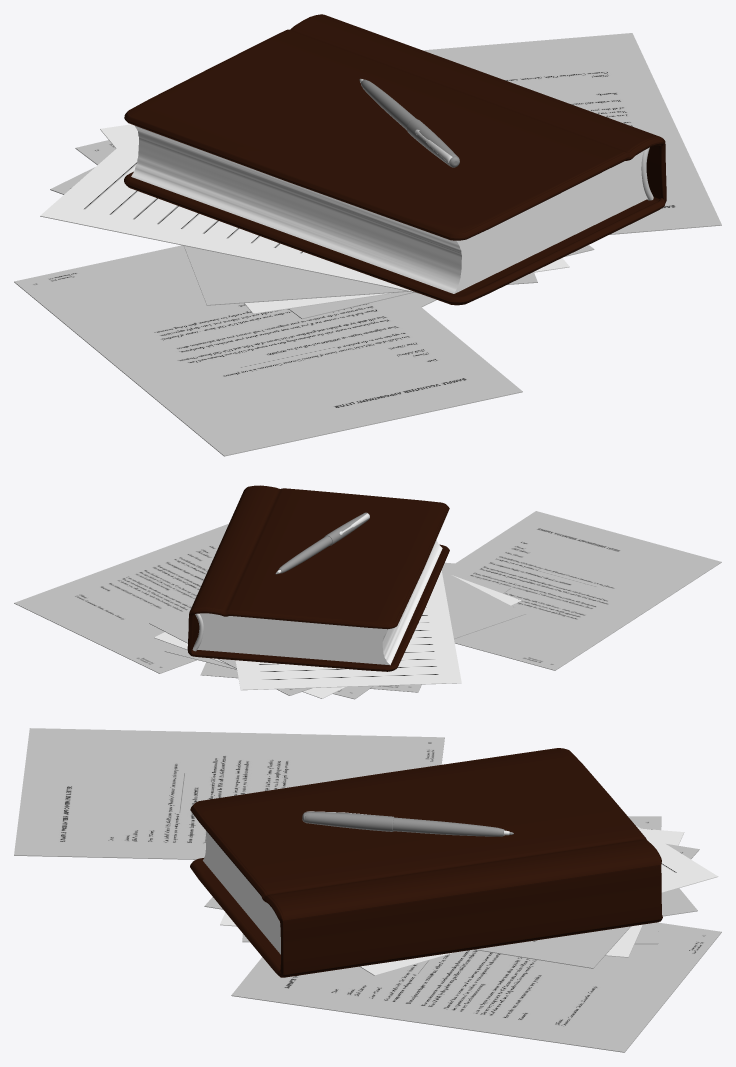
The model's file is Note_02.fbx.
3 views of the same model, one above another, from view 1: azimuth 30°, elevation 25°; view 2: azimuth 150°, elevation 25°; view 3: azimuth 270°, elevation 25° (orthographic). The views are drawn at different scales.
Parts seen in each view (by area): view 1: Note_02; view 2: Note_02; view 3: Note_02.
Part boxes in pixels (x1,y1,x2,y2): Note_02: (14, 14, 721, 456); Note_02: (14, 485, 721, 699); Note_02: (14, 728, 721, 1052).
Size of the model in its own units: 45.55 by 5.55 by 42.06.
